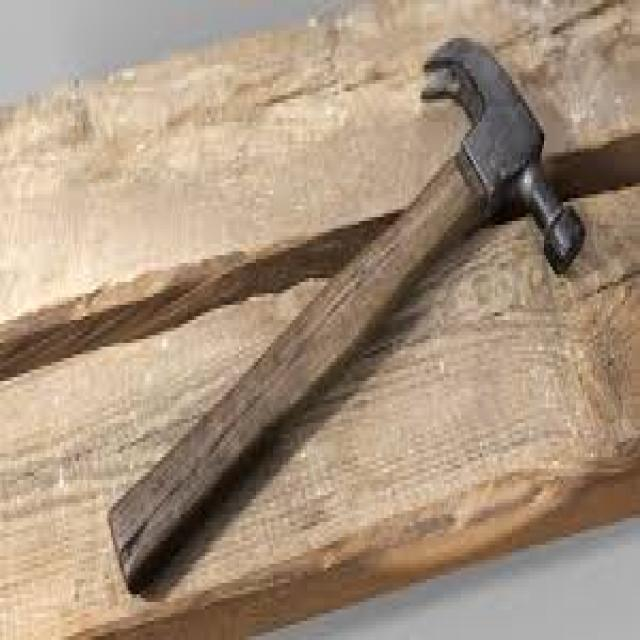hammer: (100, 27, 587, 606)
